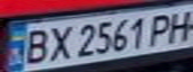1: (127, 14, 151, 50)
2: (75, 20, 100, 58)
5: (93, 18, 115, 56)
6: (112, 17, 133, 53)
B: (18, 26, 54, 65)
H: (163, 7, 193, 43)
P: (145, 11, 178, 46)
X: (42, 24, 75, 62)
